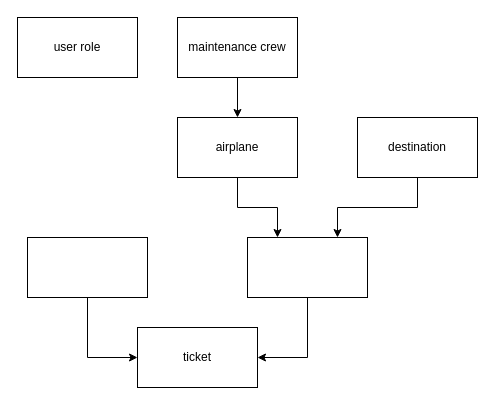
Some shapes in this 495 by 405 pixel diagram are drawn without their labels. The box of each missing label's shape, as (x1, y1, x2, y2) in pixels:
flight: (246, 236, 368, 298)
passenger: (26, 236, 148, 298)
